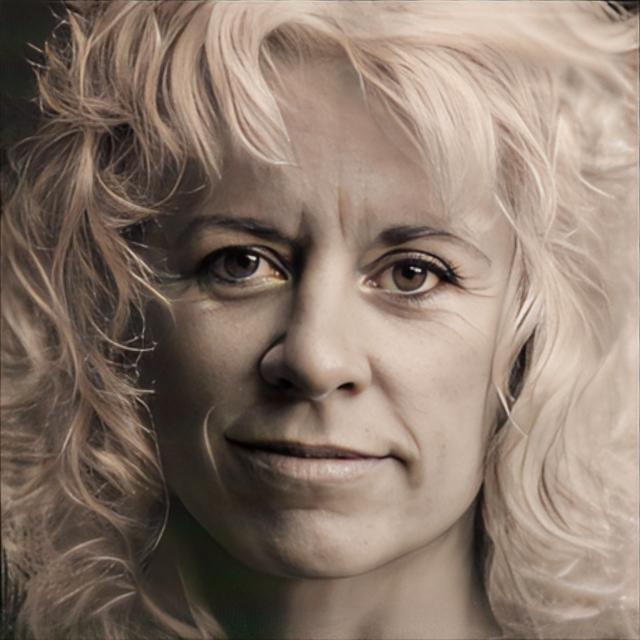content: (142, 51, 524, 584)
